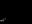person: (1, 16, 7, 23)
